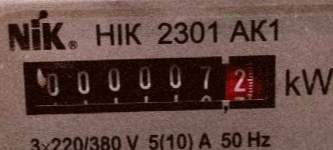0: (104, 64, 122, 92), (74, 67, 91, 95), (43, 69, 60, 96), (166, 61, 182, 89), (136, 62, 151, 89)
2: (231, 64, 247, 93)
7: (196, 62, 212, 91)
screen: (14, 45, 288, 119)
